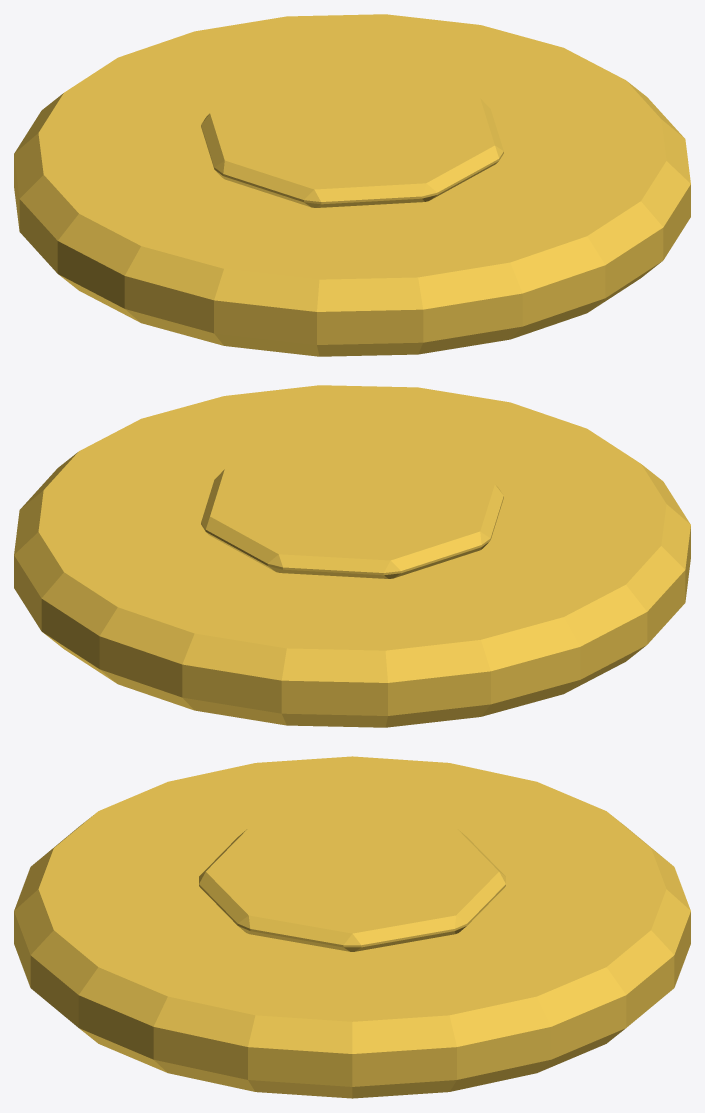
File: coin.glb
The picture shows the model from 3 angles, top to bottom: view 1: azimuth 30°, elevation 25°; view 2: azimuth 150°, elevation 25°; view 3: azimuth 270°, elevation 25°; orthographic projection.
Parts seen in each view (by area): view 1: Treasure coin face, Treasure coin crest; view 2: Treasure coin face, Treasure coin crest; view 3: Treasure coin face, Treasure coin crest.
Boxes of the visible parts, box(x1,y1,x2,y2) form: Treasure coin face: box(14, 14, 690, 356); Treasure coin crest: box(201, 69, 503, 207); Treasure coin face: box(14, 385, 690, 727); Treasure coin crest: box(201, 440, 503, 578); Treasure coin face: box(14, 756, 690, 1098); Treasure coin crest: box(199, 809, 505, 951).
Bounding box in the file's own units: 0.28 × 0.043 × 0.28.
